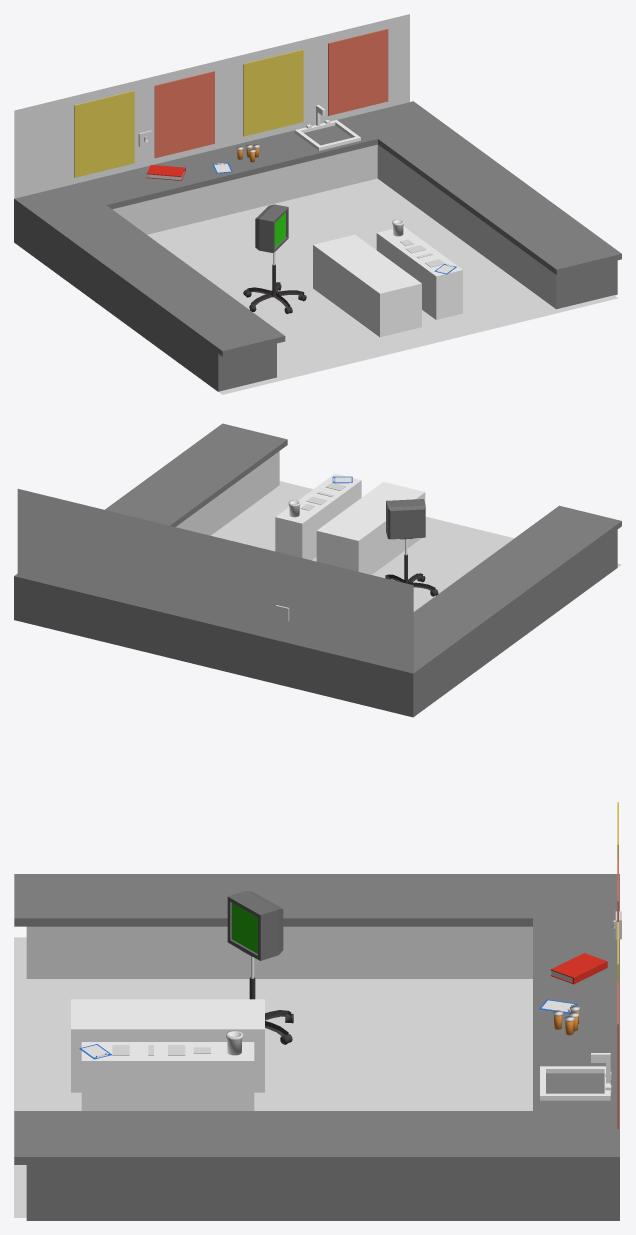
The model's file is Intergrated_Project_Surgery_Room (1).fbx.
3 views of the same model, one above another, from view 1: azimuth 30°, elevation 25°; view 2: azimuth 150°, elevation 25°; view 3: azimuth 270°, elevation 25° (orthographic). The views are drawn at different scales.
Visible parts, largest first — view 1: Cube.020, Cube.017, Cube.018, Plane.006, Plane.004, Plane.005, Plane.007, Cube.019, Cube.032, Cube.027, Cube.031; view 2: Cube.020, Cube.017, Cube.018, Cube.019, Cube.032; view 3: Cube.020, Cube.017, Cube.019, Cube.018, Cube.032, Cube.027, Cube.031.
Part boxes in pixels (x1,y1,x2,y2): Cube.020: (14,101,621,391); Cube.017: (14,14,617,394); Cube.018: (313,234,421,337); Plane.006: (243,49,303,136); Plane.004: (74,91,134,177); Plane.005: (154,71,214,158); Plane.007: (328,29,388,115); Cube.019: (376,226,462,319); Cube.032: (255,204,288,253); Cube.027: (295,120,360,150); Cube.031: (147,165,185,180); Cube.020: (14,423,621,717); Cube.017: (17,481,621,673); Cube.018: (316,482,425,574); Cube.019: (275,473,361,560); Cube.032: (386,499,425,539); Cube.020: (14,874,619,1220); Cube.017: (14,937,532,1217); Cube.019: (81,1042,254,1110); Cube.018: (71,999,264,1092); Cube.032: (227,891,283,960); Cube.027: (540,1066,610,1100); Cube.031: (550,953,607,984).
Bounding box in the file's own units: 952 × 301 × 864.
